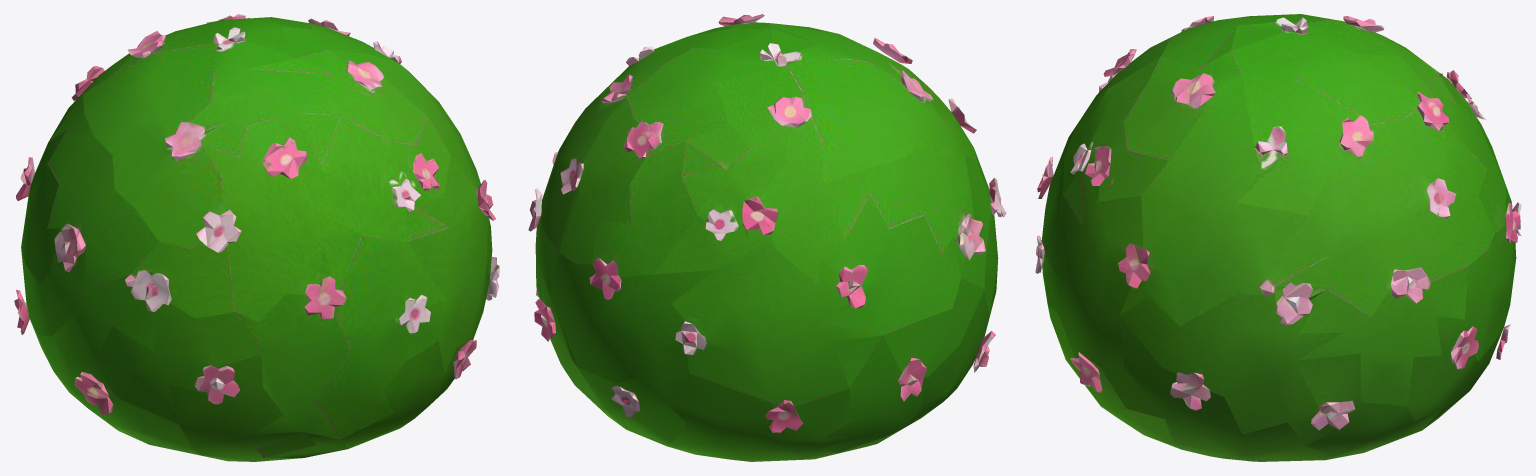
The model's file is bush.glb.
The picture shows the model from 3 angles, left to right: view 1: azimuth 30°, elevation 25°; view 2: azimuth 150°, elevation 25°; view 3: azimuth 270°, elevation 25°; orthographic projection. The views are drawn at different scales.
Size of the model in its own units: 1.89 by 1.63 by 1.89.
Materials: 1 (1 with a texture image).
